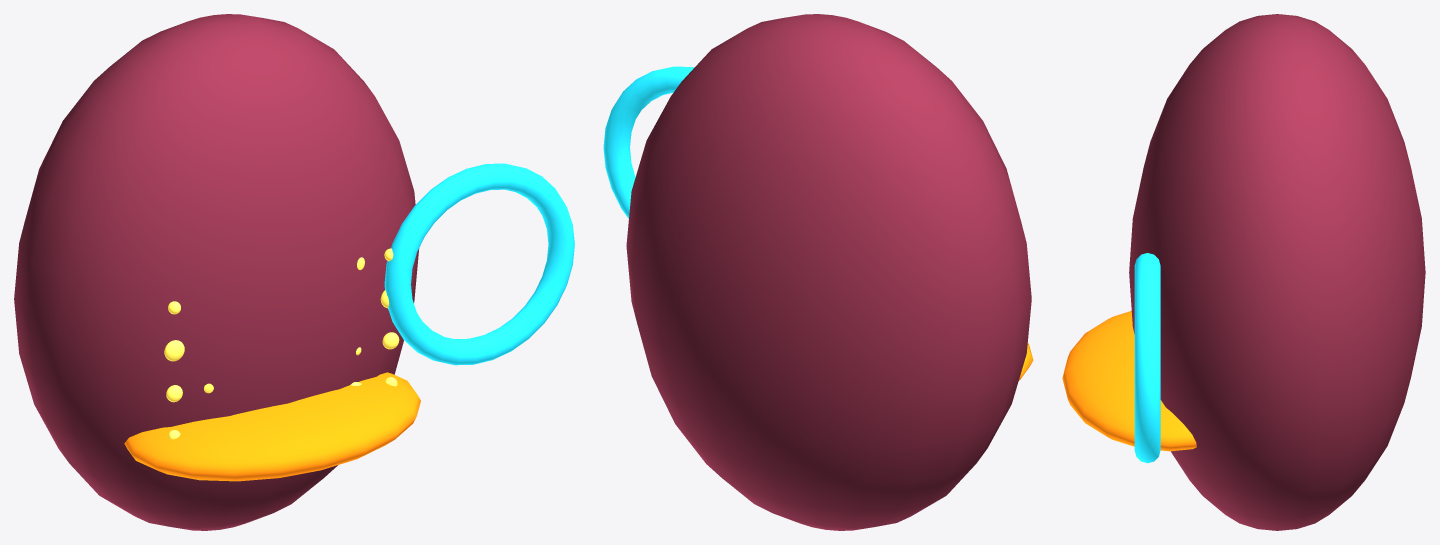
Rendered from stomach-chamber-digestion.glb.
3 renders of one model, left to right at view 1: azimuth 30°, elevation 25°; view 2: azimuth 150°, elevation 25°; view 3: azimuth 270°, elevation 25°, orthographic. The views are drawn at different scales.
Parts seen in each view (by area): view 1: stomach-outer-wall, gastric-juice-pool, enzyme-mixer-wheel; view 2: stomach-outer-wall, enzyme-mixer-wheel; view 3: stomach-outer-wall, gastric-juice-pool, enzyme-mixer-wheel.
Part boxes in pixels (bbox=[...]): stomach-outer-wall: bbox=[14, 14, 419, 530]; gastric-juice-pool: bbox=[124, 372, 420, 481]; enzyme-mixer-wheel: bbox=[384, 163, 574, 365]; stomach-outer-wall: bbox=[626, 14, 1031, 530]; enzyme-mixer-wheel: bbox=[603, 66, 694, 218]; stomach-outer-wall: bbox=[1129, 14, 1425, 530]; gastric-juice-pool: bbox=[1062, 311, 1196, 451]; enzyme-mixer-wheel: bbox=[1134, 253, 1160, 463].
Size of the model in its own units: 2.92 by 2.9 by 1.96.
